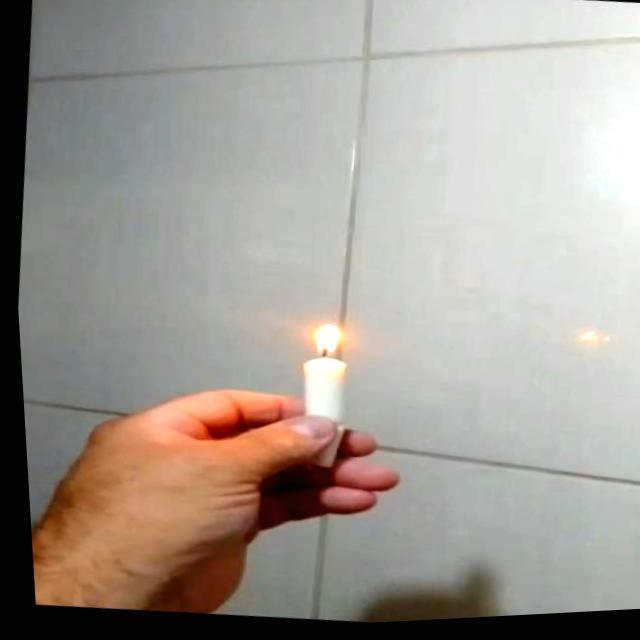helmet: (302, 320, 344, 364)
